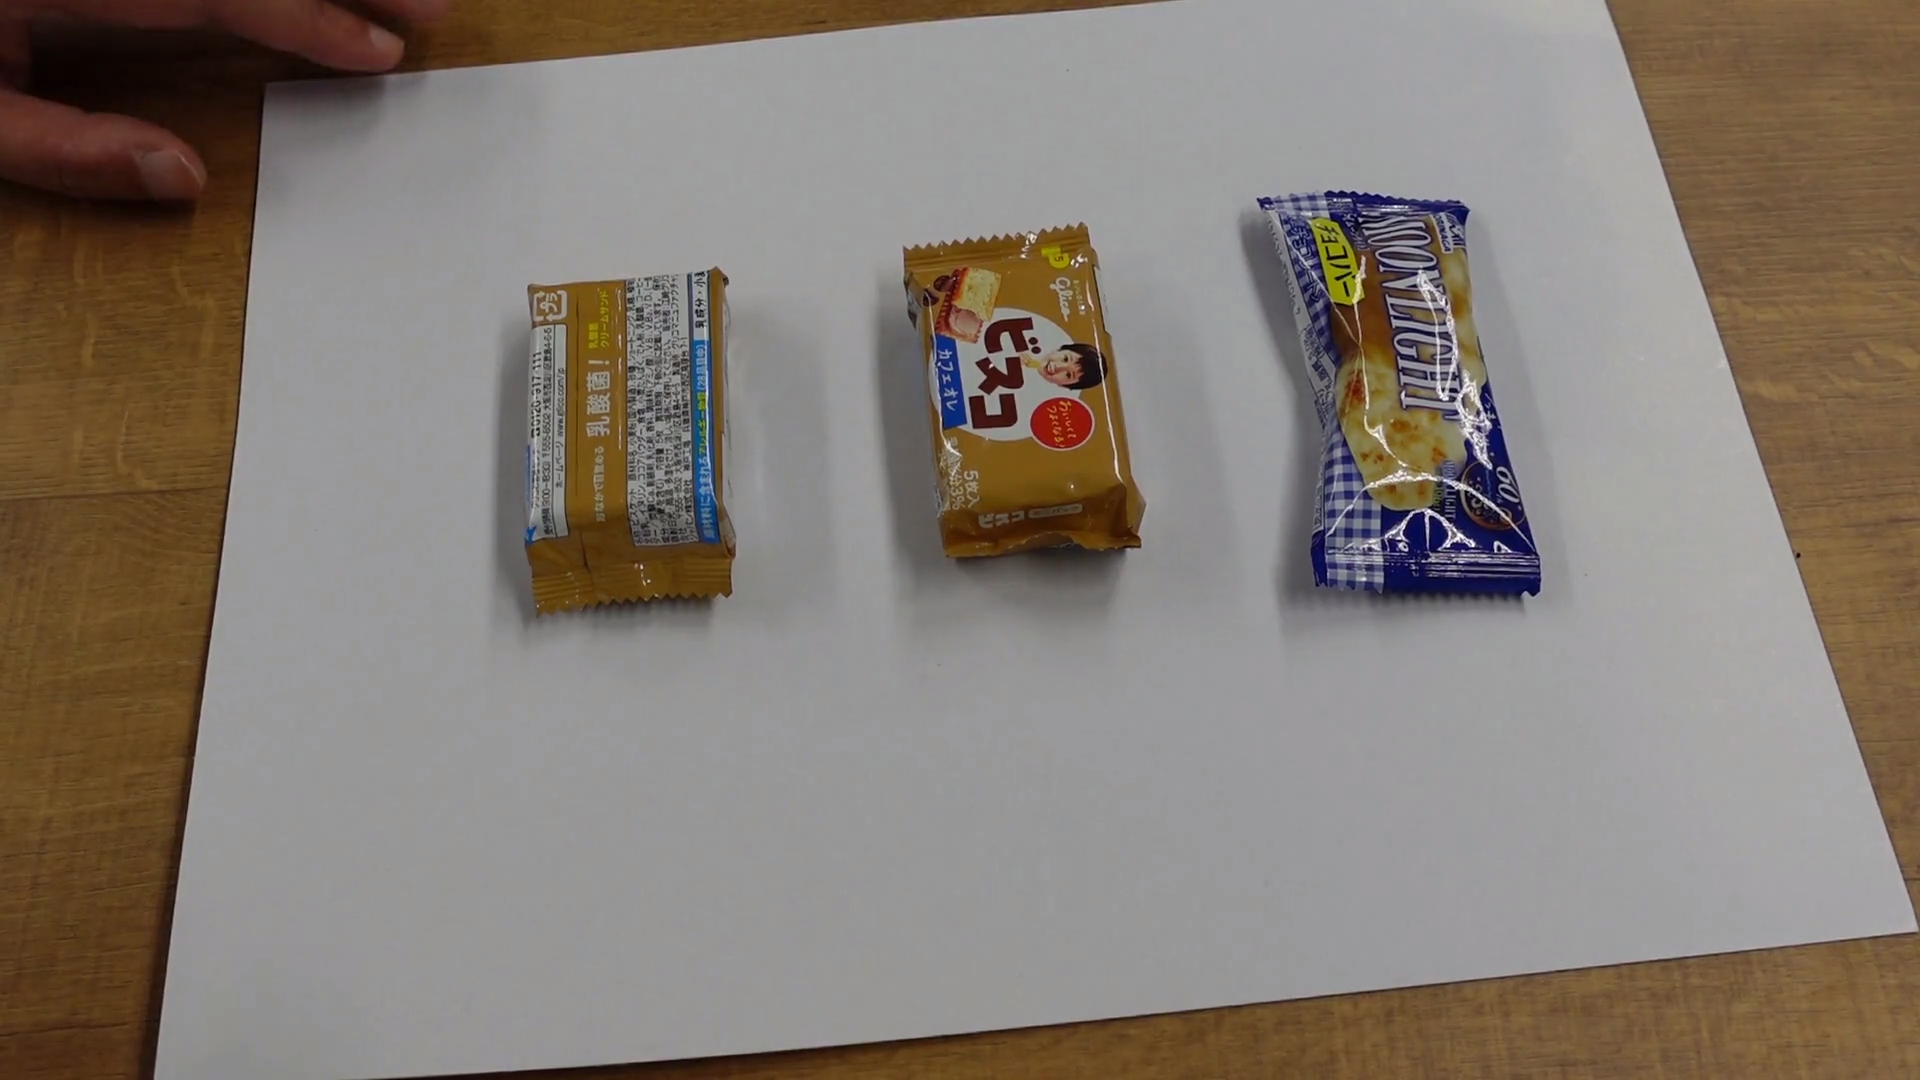BISCO_CafeAuLet: (920, 237, 1139, 553), (526, 281, 737, 593)
